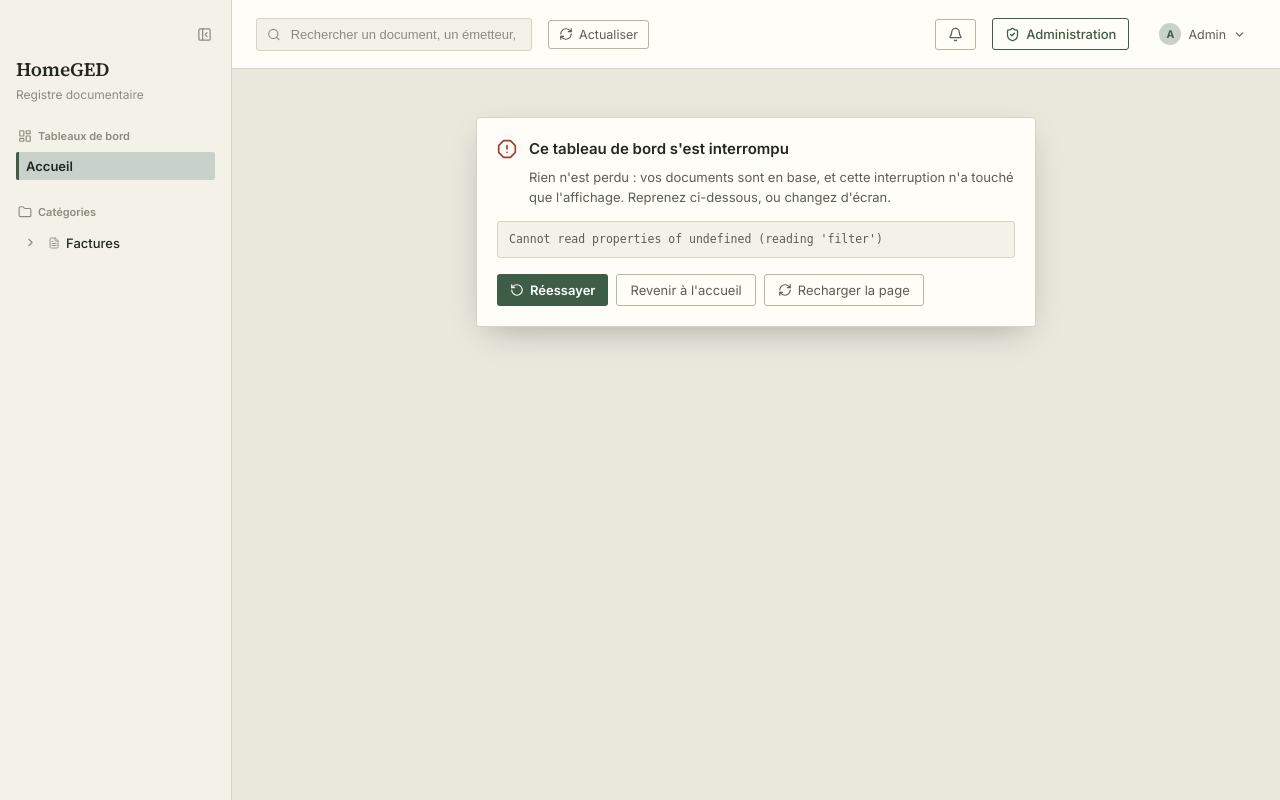
Test: un écran qui se casse n'emporte pas les autres › montre ce qui s'est passé, et laisse de quoi s'en aller
expect the text "Ce tableau de bord s'est interrompu" is shown: met, box [529, 139, 789, 158]
expect the field with placeholder "Rechercher un document, un émetteur, un véhicule…" is shown: met, box [289, 26, 521, 42]
Step 1. Click the button "Factures" → click(128, 242), box [40, 228, 215, 256]
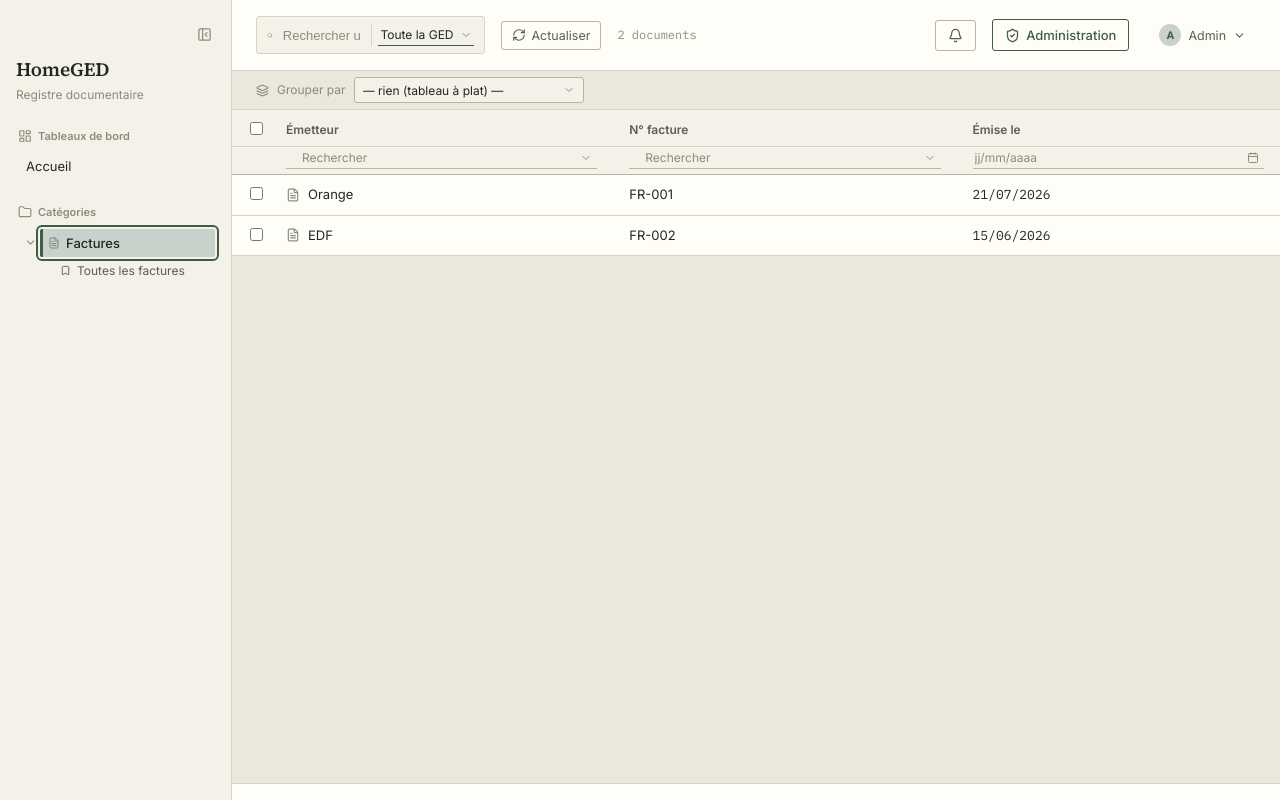
expect the text "Orange" is shown: met, box [286, 186, 353, 202]
